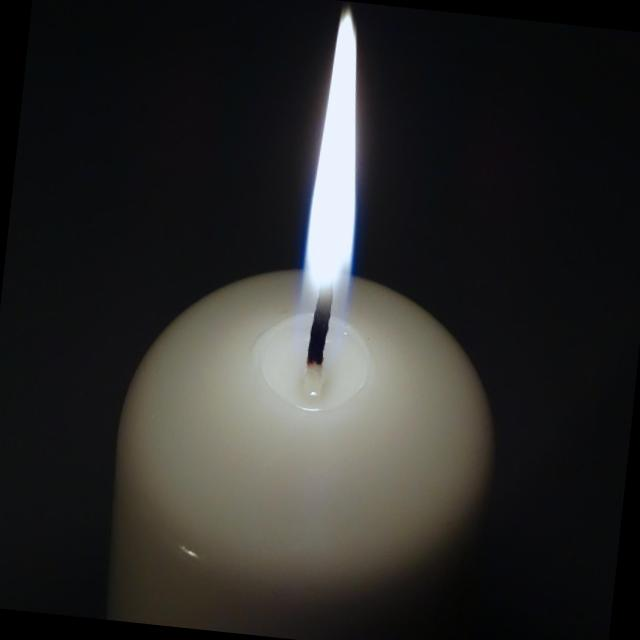Fire_Save: (96, 0, 540, 640), (290, 4, 380, 372)
